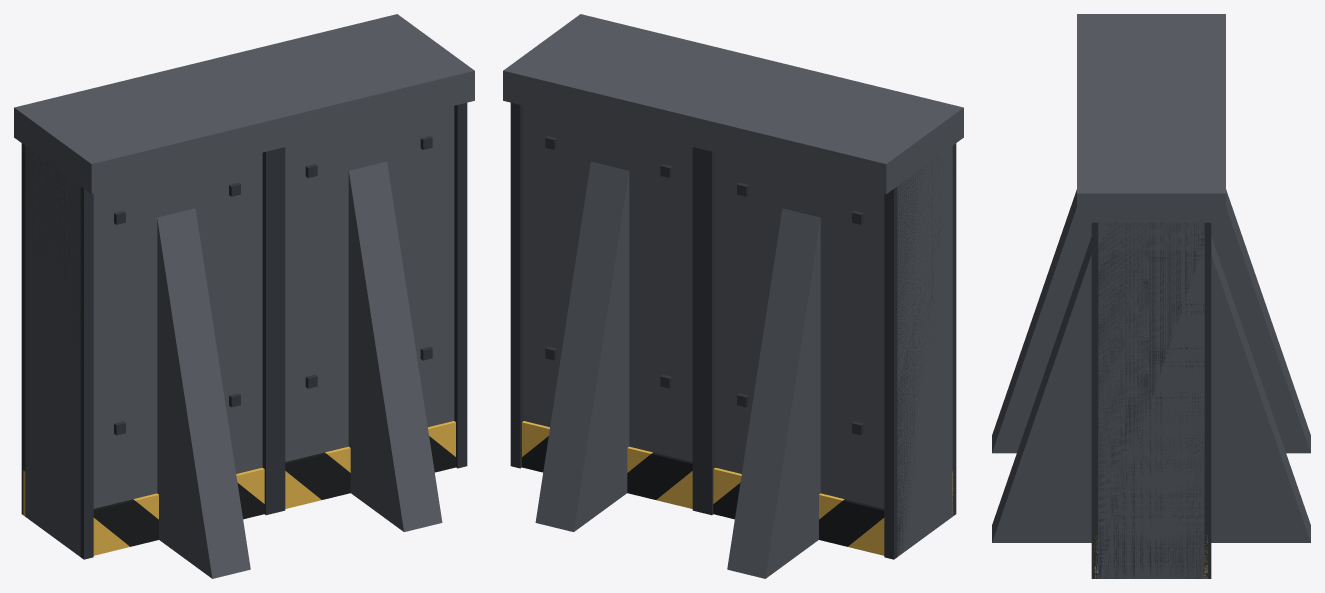
The model's file is blastWall.glb.
3 renders of one model, left to right at view 1: azimuth 30°, elevation 25°; view 2: azimuth 150°, elevation 25°; view 3: azimuth 270°, elevation 25°, orthographic. The views are drawn at different scales.
Parts seen in each view (by area): view 1: blastWall; view 2: blastWall; view 3: blastWall.
Boxes of the visible parts, box(x1,y1,x2,y2) form: blastWall: box(14, 14, 474, 578); blastWall: box(503, 14, 963, 578); blastWall: box(992, 14, 1310, 578).
Bounding box in the file's own units: 8 × 8 × 6.
